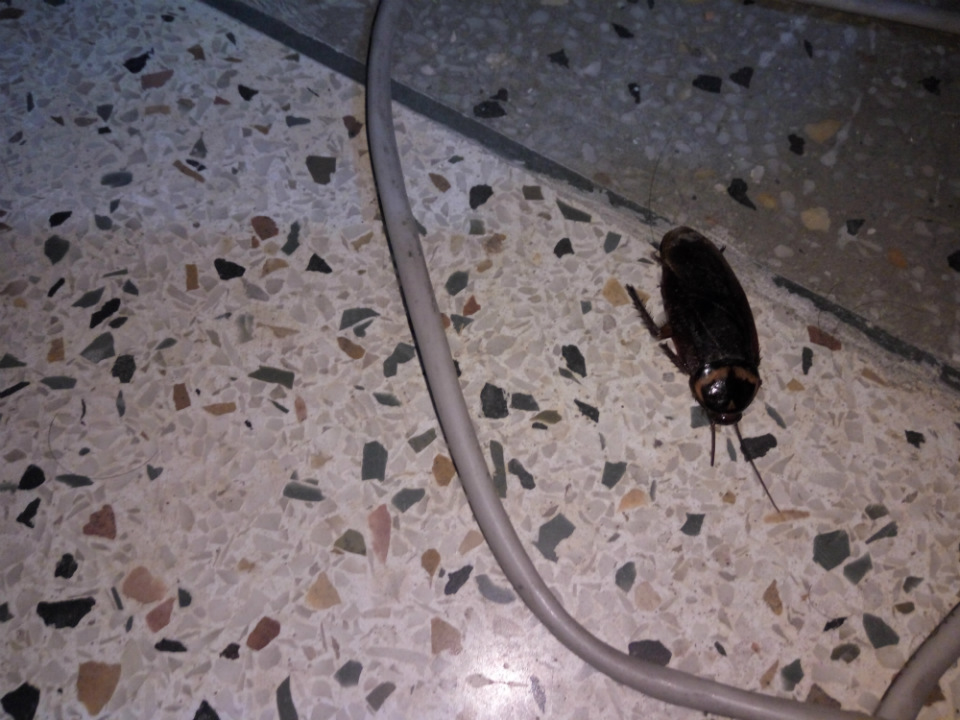cockroach: (573, 167, 851, 532)
